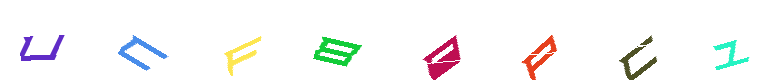0: (344, 0, 424, 80)
1: (667, 0, 747, 80)
8: (296, 0, 376, 80)
C: (96, 0, 176, 80), (597, 0, 677, 80)
F: (225, 0, 305, 80)
P: (440, 0, 520, 80)
U: (0, 0, 80, 80)
